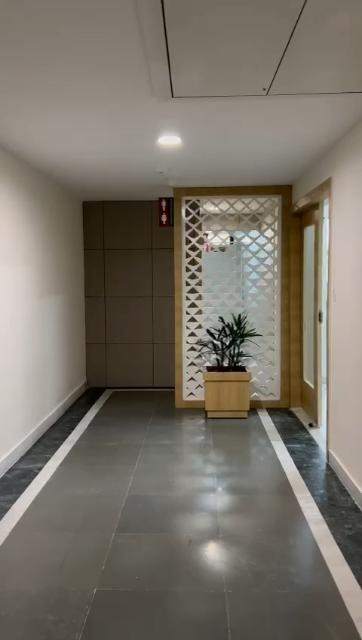door: (292, 217, 324, 419)
floor: (0, 383, 358, 640)
object: (203, 315, 263, 427)
wall: (331, 136, 362, 464)
